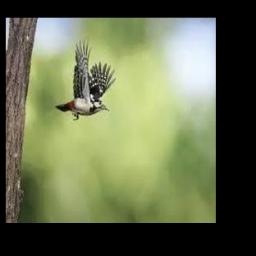Woodpecker: (56, 37, 117, 120)
